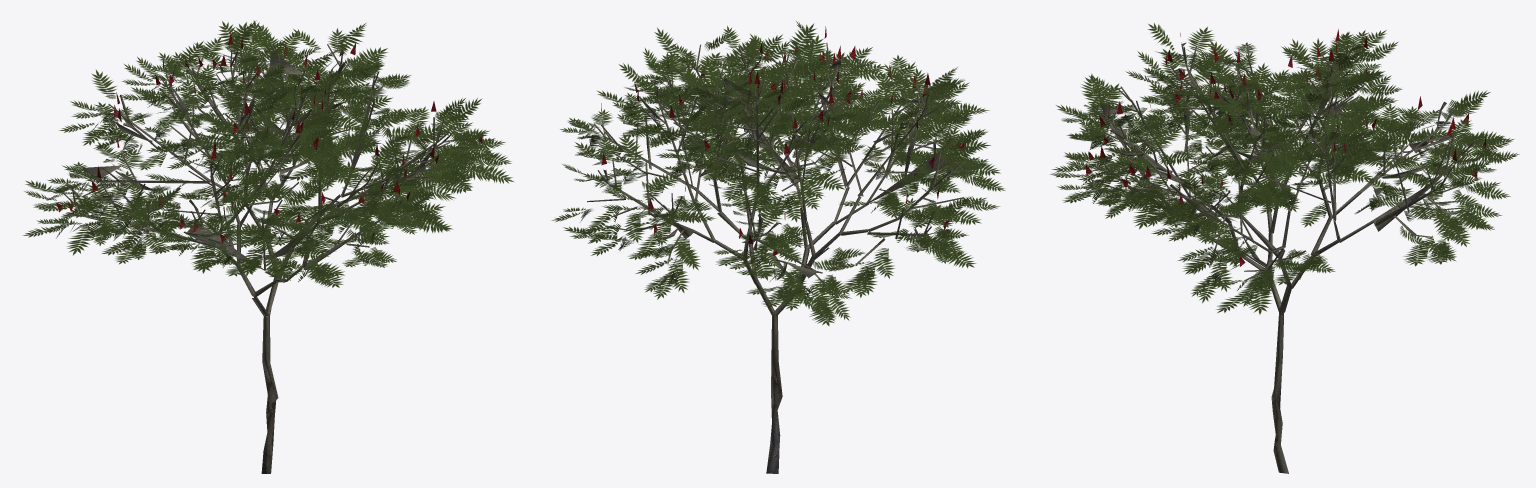
File: tree_005.glb
3 renders of one model, left to right at view 1: azimuth 30°, elevation 25°; view 2: azimuth 150°, elevation 25°; view 3: azimuth 270°, elevation 25°, orthographic.
Visible parts, largest first — view 1: Tree_005; view 2: Tree_005; view 3: Tree_005.
Part boxes in pixels (x1,y1,x2,y2): Tree_005: [23, 20, 514, 473]; Tree_005: [551, 21, 1005, 473]; Tree_005: [1050, 23, 1519, 473].
Bounding box in the file's own units: 6.27 × 5.68 × 5.72.
3 materials, 3 textured.
